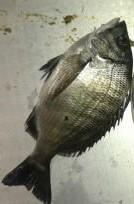fish: (2, 14, 133, 203)
